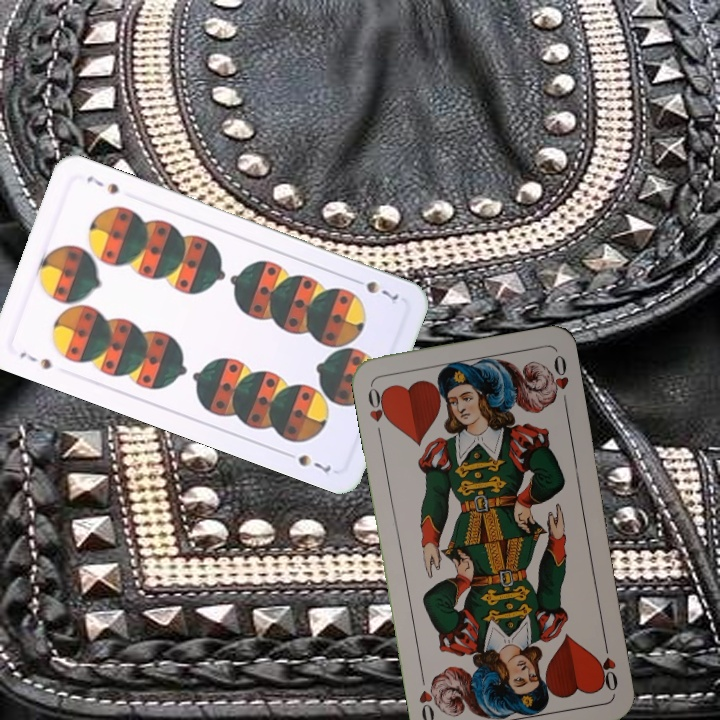HO: (363, 382, 393, 441), (594, 636, 621, 694)
S7: (348, 274, 402, 305), (15, 347, 54, 372)
